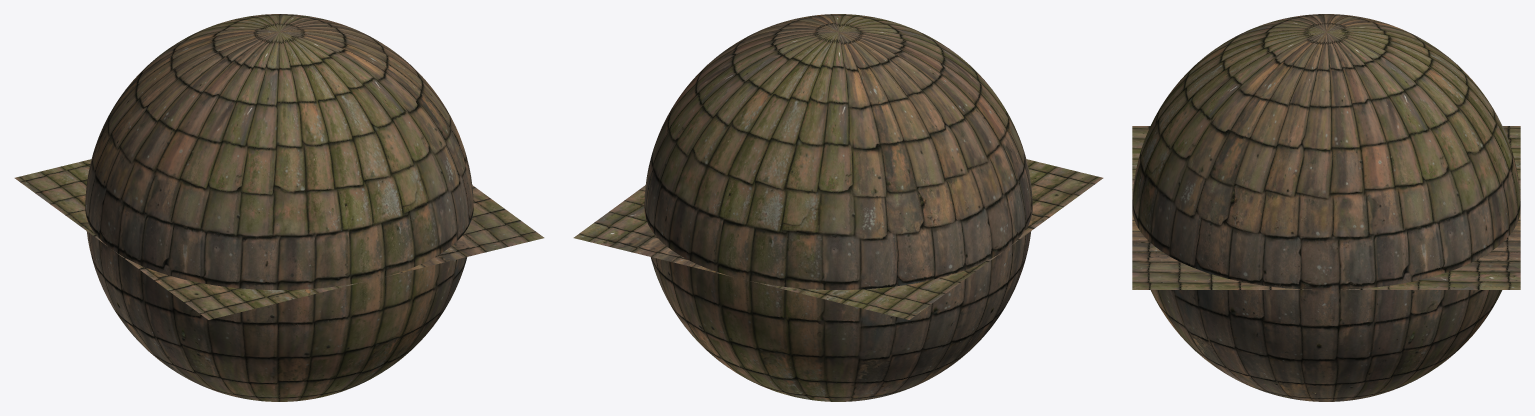
Rendered from roof_tiles_14_1k.fbx.
The picture shows the model from 3 angles, left to right: view 1: azimuth 30°, elevation 25°; view 2: azimuth 150°, elevation 25°; view 3: azimuth 270°, elevation 25°; orthographic projection.
Visible parts, largest first — view 1: Sphere, Plane; view 2: Sphere, Plane; view 3: Sphere, Plane.
Boxes of the visible parts, bbox=[...] form: Sphere: bbox=[85, 14, 473, 401]; Plane: bbox=[14, 159, 544, 319]; Sphere: bbox=[644, 14, 1032, 401]; Plane: bbox=[573, 159, 1103, 319]; Sphere: bbox=[1132, 14, 1520, 401]; Plane: bbox=[1132, 126, 1520, 289].
Bounding box in the file's own units: 150 × 150 × 150.
Materials: 1 (1 with a texture image).
